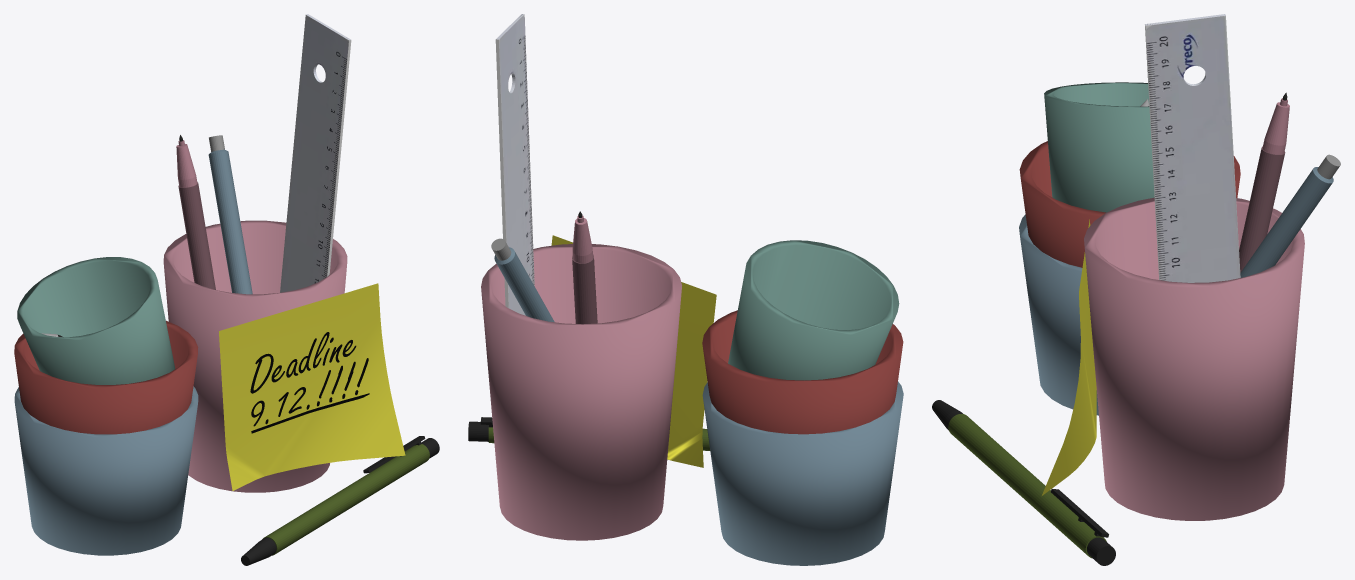
The model's file is random_cup.fbx.
3 renders of one model, left to right at view 1: azimuth 30°, elevation 25°; view 2: azimuth 150°, elevation 25°; view 3: azimuth 270°, elevation 25°, orthographic. The views are drawn at different scales.
Visible parts, largest first — view 1: muistilappu, kuppi, lasi, kuppi3, viivotin, kuppi2, kynä2, kynä4, kynä3, 9.12.!!!!, deadline; view 2: lasi, kuppi, kuppi3, kuppi2, viivotin, muistilattu_takaosa, kynä3, kynä4, kynä2; view 3: lasi, viivotin, kuppi3, kuppi, kynä2, kuppi2, muistilattu_takaosa, kynä3, kynä4, klippi_kynä2.
Boxes of the visible parts, <box> form: muistilappu: <box>219,283,405,490</box>; kuppi: <box>14,386,198,555</box>; lasi: <box>163,220,347,492</box>; kuppi3: <box>17,257,175,384</box>; viivotin: <box>280,14,351,292</box>; kuppi2: <box>14,320,198,434</box>; kynä2: <box>241,438,439,565</box>; kynä4: <box>208,135,252,294</box>; kynä3: <box>176,135,215,289</box>; 9.12.!!!!: <box>251,358,369,433</box>; deadline: <box>250,332,356,393</box>; lasi: <box>481,244,681,540</box>; kuppi: <box>702,381,903,565</box>; kuppi3: <box>728,240,899,380</box>; kuppi2: <box>702,310,903,434</box>; viivotin: <box>495,14,534,315</box>; muistilattu_takaosa: <box>551,235,716,467</box>; kynä3: <box>572,211,597,324</box>; kynä4: <box>491,238,554,322</box>; kynä2: <box>468,421,710,450</box>; lasi: <box>1084,197,1304,520</box>; viivotin: <box>1145,14,1240,282</box>; kuppi3: <box>1044,82,1154,212</box>; kuppi: <box>1019,214,1098,415</box>; kynä2: <box>932,400,1115,565</box>; kuppi2: <box>1019,141,1240,267</box>; muistilattu_takaosa: <box>1042,219,1096,495</box>; kynä3: <box>1239,92,1289,272</box>; kynä4: <box>1240,154,1340,277</box>; klippi_kynä2: <box>1051,489,1108,537</box>.
Size of the model in its own units: 0.1999 by 0.2027 by 0.1478.
